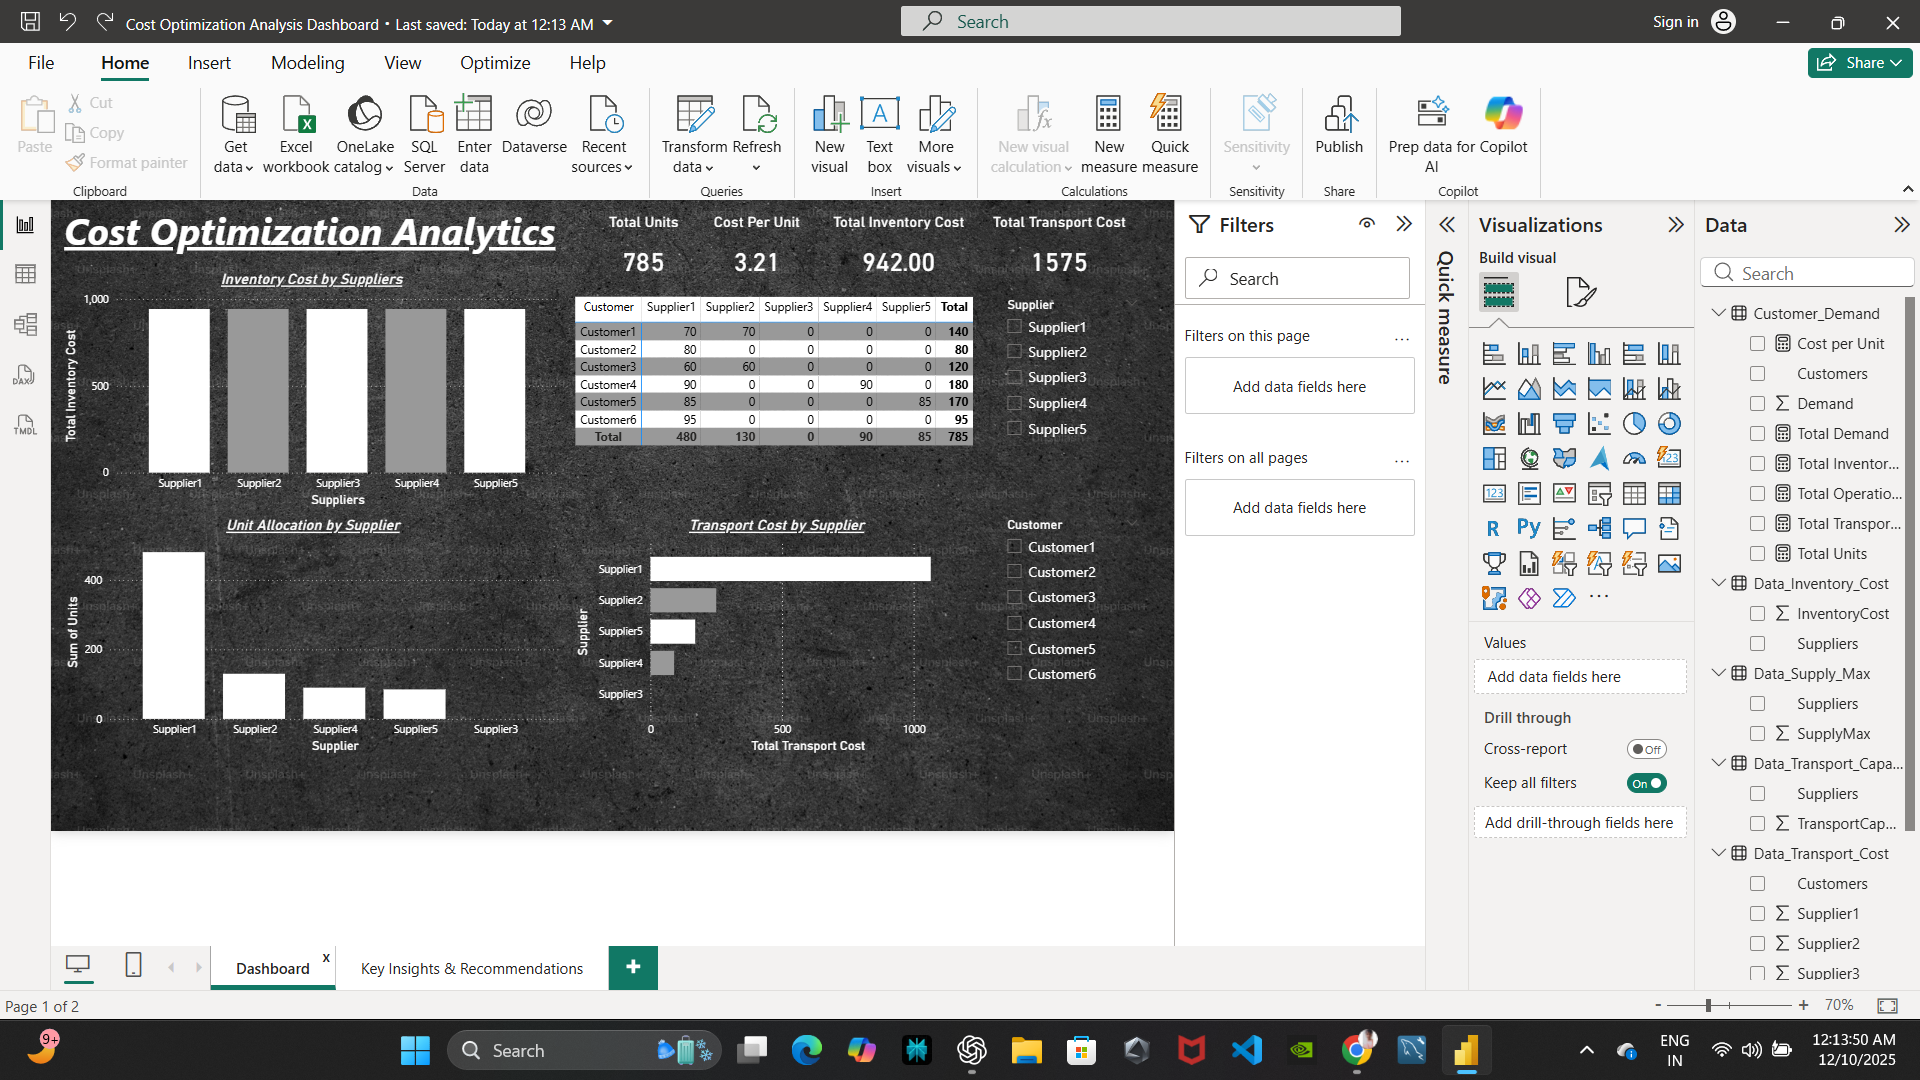

This screenshot's page, from the dashboard's own definition file:
{"tool":"powerbi","page":{"name":"Dashboard","canvas":[1280,720],"ordinal":0},"visuals":[{"type":"textbox","box":[9.6,0,573.6,79.6],"z":0},{"type":"card","title":"Total Units","fields":{"Values":["Customer_Demand.Total Units"]},"box":[592.8,13.7,166,90.6],"z":1000},{"type":"card","title":"Total Inventory Cost","fields":{"Values":["Customer_Demand.Total Inventory Cost"]},"box":[883.7,13.7,166,90.6],"z":2000},{"type":"card","title":"Total Transport Cost","fields":{"Values":["Customer_Demand.Total Transport Cost"]},"box":[1049.7,13.7,201.7,90.6],"z":3000},{"type":"card","title":"Cost Per Unit","fields":{"Values":["Customer_Demand.Cost per Unit"]},"box":[727.3,13.7,156.4,90.6],"z":4000},{"type":"columnChart","title":"Inventory Cost by Suppliers","fields":{"Category":["Data_Inventory_Cost.Suppliers"],"Y":["Customer_Demand.Total Inventory Cost"]},"box":[10,79.8,574.4,275.1],"z":5000},{"type":"columnChart","title":"Unit Allocation by Supplier","fields":{"Y":["Sum(Unit_Allocation.Units)"],"Category":["Unit_Allocation.Supplier "]},"box":[11.4,360.6,574.4,275.1],"z":6000},{"type":"pivotTable","fields":{"Rows":["Unit_Allocation.Customer"],"Columns":["Unit_Allocation.Supplier "],"Values":["Sum(Unit_Allocation.Units)"]},"box":[593,105.5,469,186.7],"z":7000},{"type":"slicer","fields":{"Values":["Unit_Allocation.Supplier "]},"box":[1077.6,105.5,173.9,176.7],"z":8000},{"type":"slicer","fields":{"Values":["Unit_Allocation.Customer"]},"box":[1077.6,356.3,173.9,215.2],"z":9000},{"type":"clusteredBarChart","title":"Transport Cost by Supplier ","fields":{"Category":["Unit_Allocation.Supplier "],"Y":["Customer_Demand.Total Transport Cost"]},"box":[593,360.6,469,275.1],"z":10000}]}

Visuals, with their boxes on the page's 1280x720 design canvas (x1, y1, x2, y2). These are canvas units, not pixel positions in the 1920x1080 screenshot, which may show the page scaled, cropped or inside an application window:
textbox: rect(10, 0, 583, 80)
"Total Units" card: rect(593, 14, 759, 104)
"Total Inventory Cost" card: rect(884, 14, 1050, 104)
"Total Transport Cost" card: rect(1050, 14, 1251, 104)
"Cost Per Unit" card: rect(727, 14, 884, 104)
"Inventory Cost by Suppliers" columnChart: rect(10, 80, 584, 355)
"Unit Allocation by Supplier" columnChart: rect(11, 361, 586, 636)
pivotTable - Unit_Allocation.Customer x Unit_Allocation.Supplier : rect(593, 106, 1062, 292)
slicer - Unit_Allocation.Supplier : rect(1078, 106, 1252, 282)
slicer - Unit_Allocation.Customer: rect(1078, 356, 1252, 572)
"Transport Cost by Supplier " clusteredBarChart: rect(593, 361, 1062, 636)
